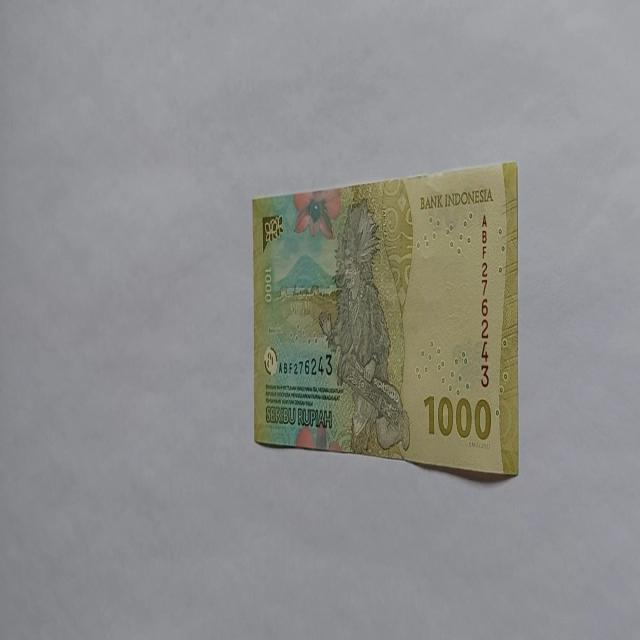seribu rupiah kertas: (251, 159, 519, 478)
